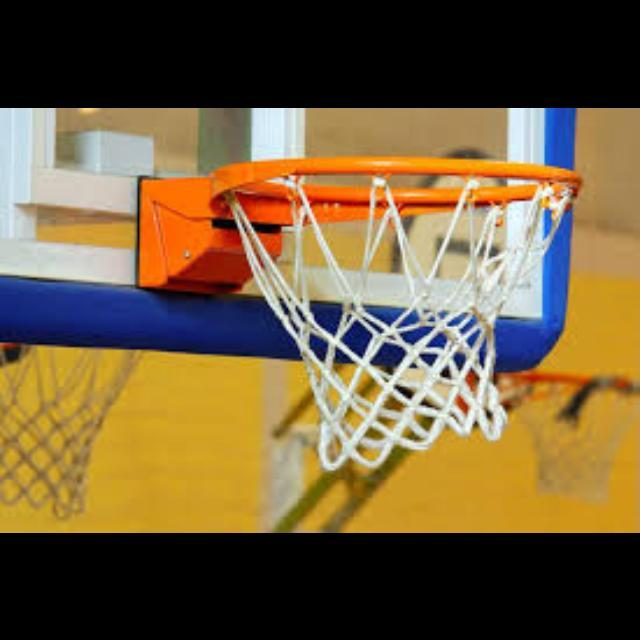rim: (214, 156, 582, 468)
